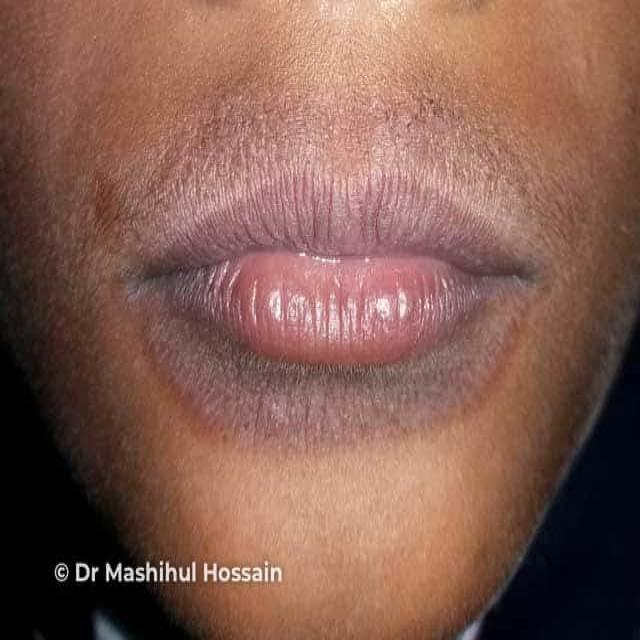Eczema: (108, 79, 552, 429)
